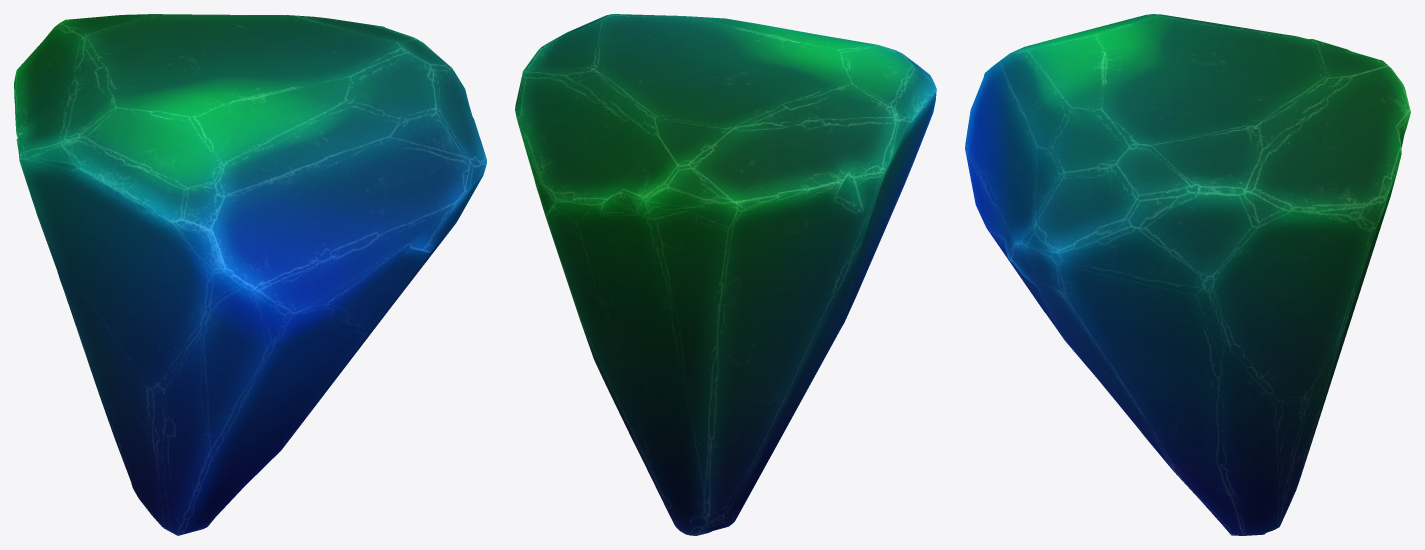
The model's file is crystal_10.fbx.
3 views of the same model, side by side, from view 1: azimuth 30°, elevation 25°; view 2: azimuth 150°, elevation 25°; view 3: azimuth 270°, elevation 25° (orthographic). The views are drawn at different scales.
Visible parts, largest first — view 1: crystal_10; view 2: crystal_10; view 3: crystal_10.
Boxes of the visible parts, x1,y1,x2,y2 form: crystal_10: [14, 14, 486, 535]; crystal_10: [515, 14, 936, 535]; crystal_10: [965, 14, 1410, 535].
Bounding box in the file's own units: 21.25 × 24.54 × 21.32.
1 material, 1 textured.
